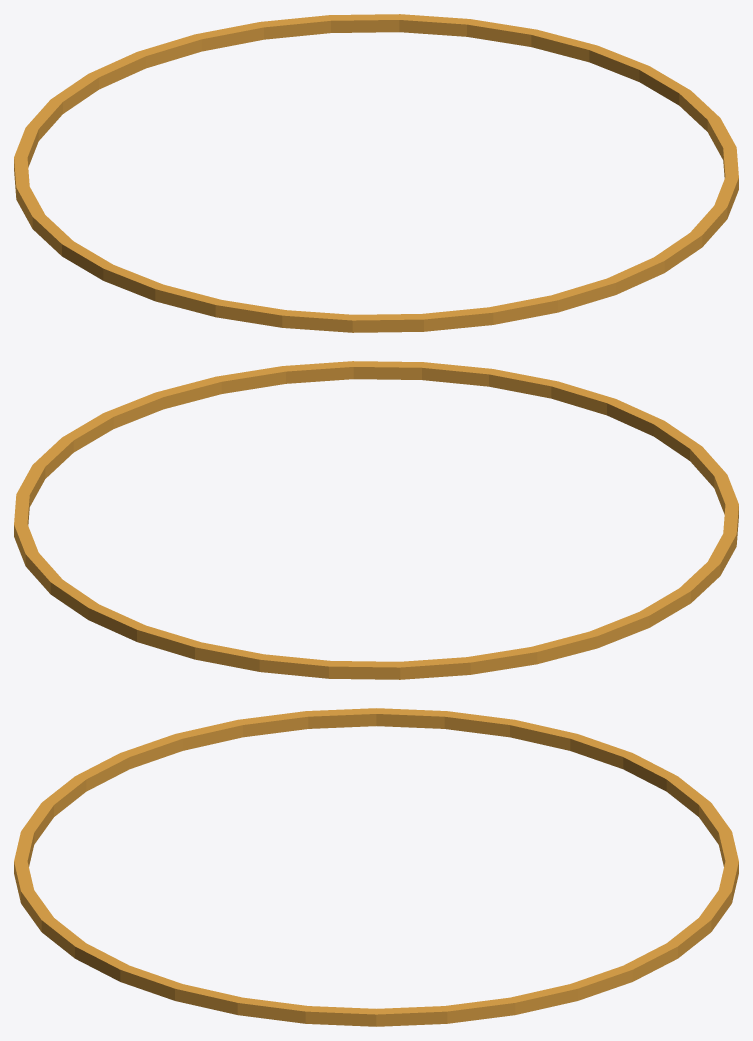
File: orbit-equator.obj
The picture shows the model from 3 angles, top to bottom: view 1: azimuth 30°, elevation 25°; view 2: azimuth 150°, elevation 25°; view 3: azimuth 270°, elevation 25°; orthographic projection.
Bounding box in the file's own units: 5.3 × 0.099 × 5.3.
